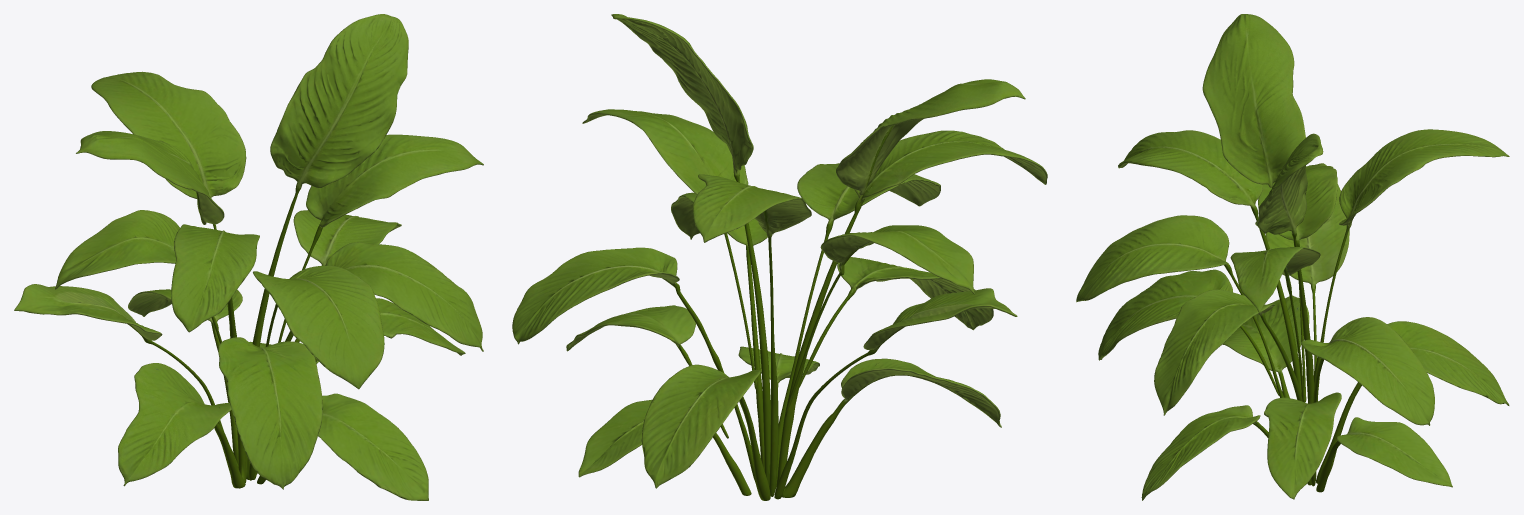
Rendered from LEAF.glb.
3 views of the same model, side by side, from view 1: azimuth 30°, elevation 25°; view 2: azimuth 150°, elevation 25°; view 3: azimuth 270°, elevation 25° (orthographic). The views are drawn at different scales.
Parts seen in each view (by area): view 1: tripo_node_020b0ddf-a21d-4fb9-b071-30c58cadae64; view 2: tripo_node_020b0ddf-a21d-4fb9-b071-30c58cadae64; view 3: tripo_node_020b0ddf-a21d-4fb9-b071-30c58cadae64.
Part boxes in pixels (<box>): tripo_node_020b0ddf-a21d-4fb9-b071-30c58cadae64: <box>14,14,483,500</box>; tripo_node_020b0ddf-a21d-4fb9-b071-30c58cadae64: <box>512,14,1047,500</box>; tripo_node_020b0ddf-a21d-4fb9-b071-30c58cadae64: <box>1076,14,1509,500</box>.
Bounding box in the file's own units: 0.9807 × 0.908 × 0.8982.
1 material, 1 textured.
